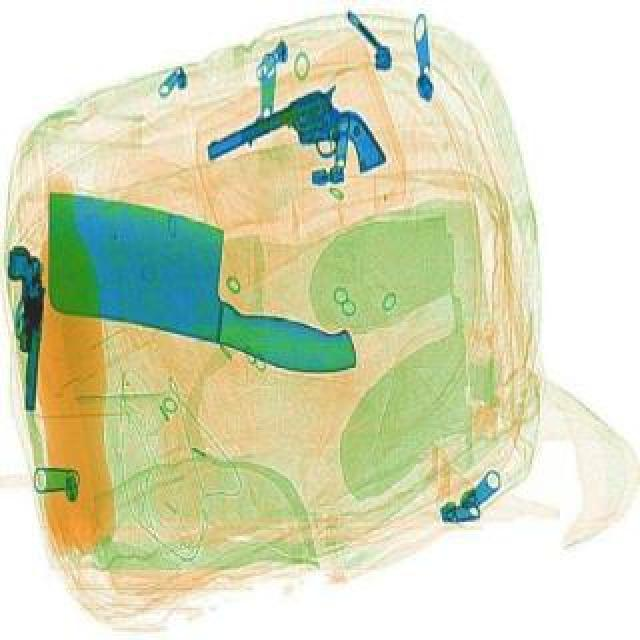gun: (192, 74, 392, 208), (0, 234, 68, 414)
knife: (22, 184, 392, 380)
